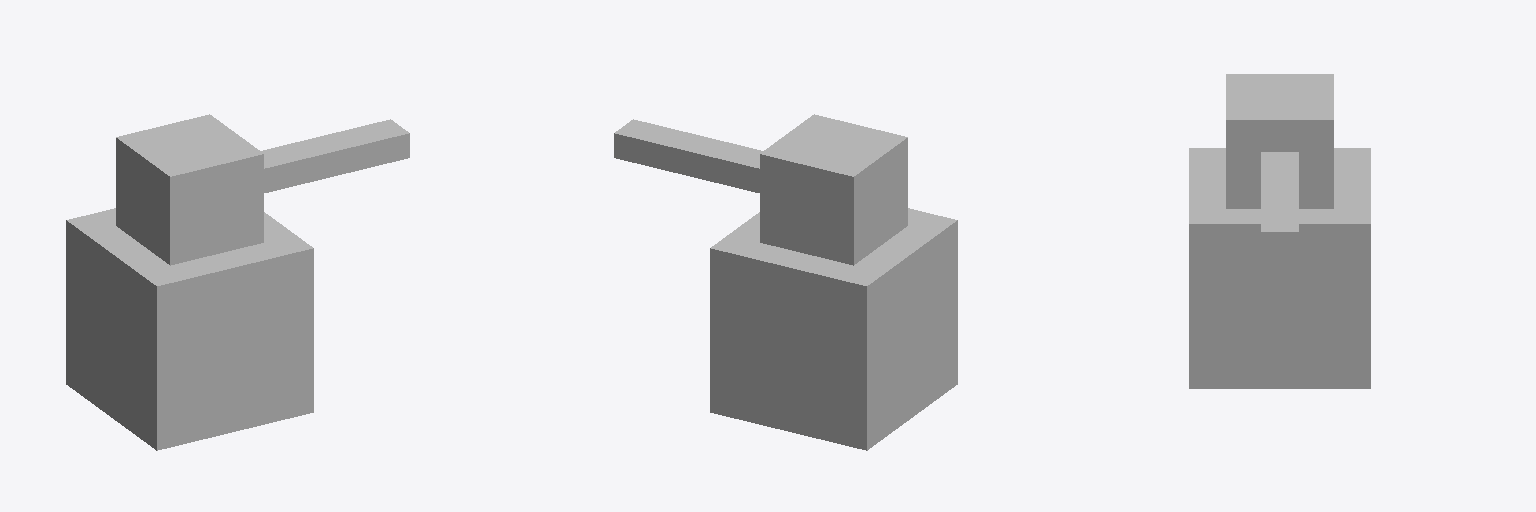
Rendered from turret.obj.
The picture shows the model from 3 angles: view 1: azimuth 30°, elevation 25°; view 2: azimuth 150°, elevation 25°; view 3: azimuth 270°, elevation 25°; orthographic projection.
Parts seen in each view (by area): view 1: Cube; view 2: Cube; view 3: Cube.
Part boxes in pixels (x1,y1,x2,y2): Cube: (66,114,409,450); Cube: (614,114,957,450); Cube: (1189,74,1370,388).
Bounding box in the file's own units: 3.68 × 3.08 × 2.